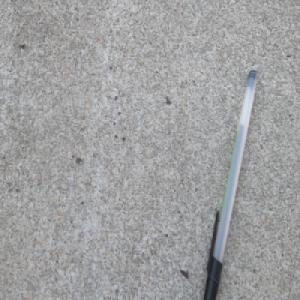Pen: (201, 65, 260, 300)
